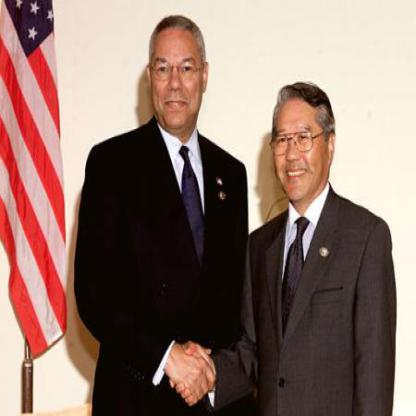face: (271, 86, 329, 204), (151, 16, 205, 131)
